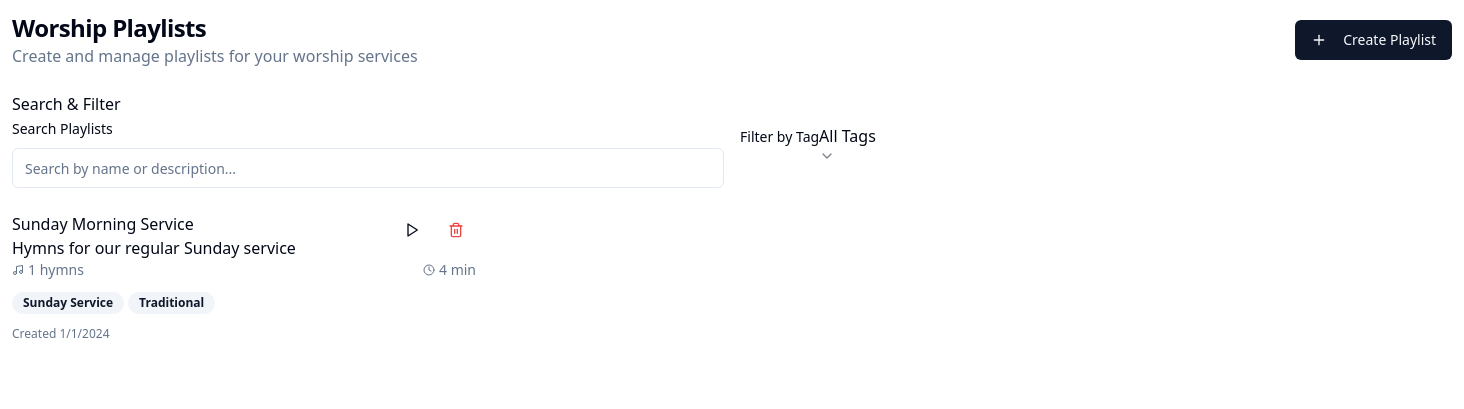
PlaylistManager › Search and Filtering › filters playlists by search term
expect the heading "Sunday Morning Service" is shown: met, box top-left (12, 213), bottom-right (194, 235)
Type "Evening" into the field with placeholder "Search by name or description...".
click(368, 168); type("Evening")  # box top-left (12, 148), bottom-right (724, 188)
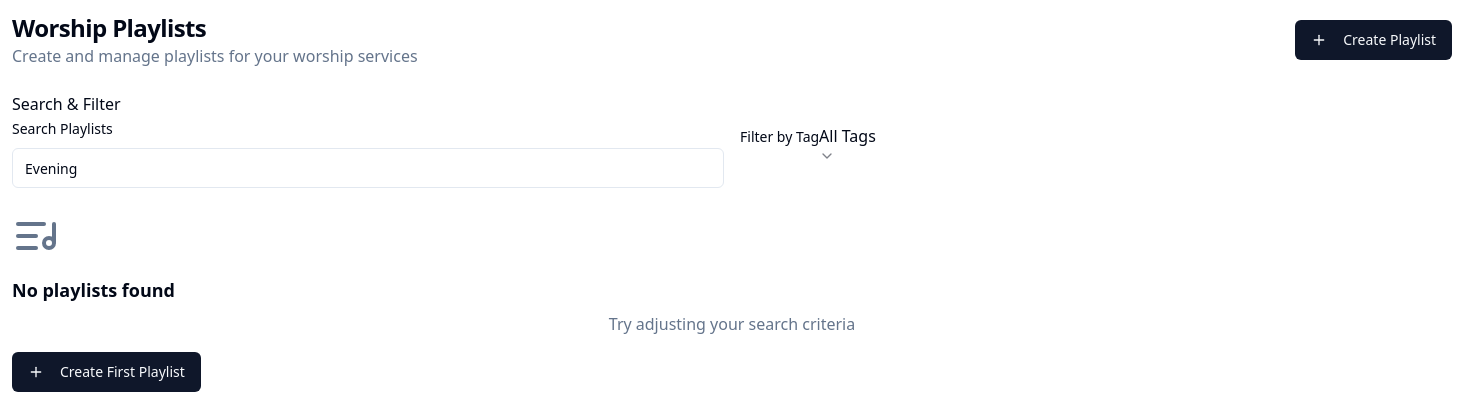
expect the heading "Sunday Morning Service" is gone: met
